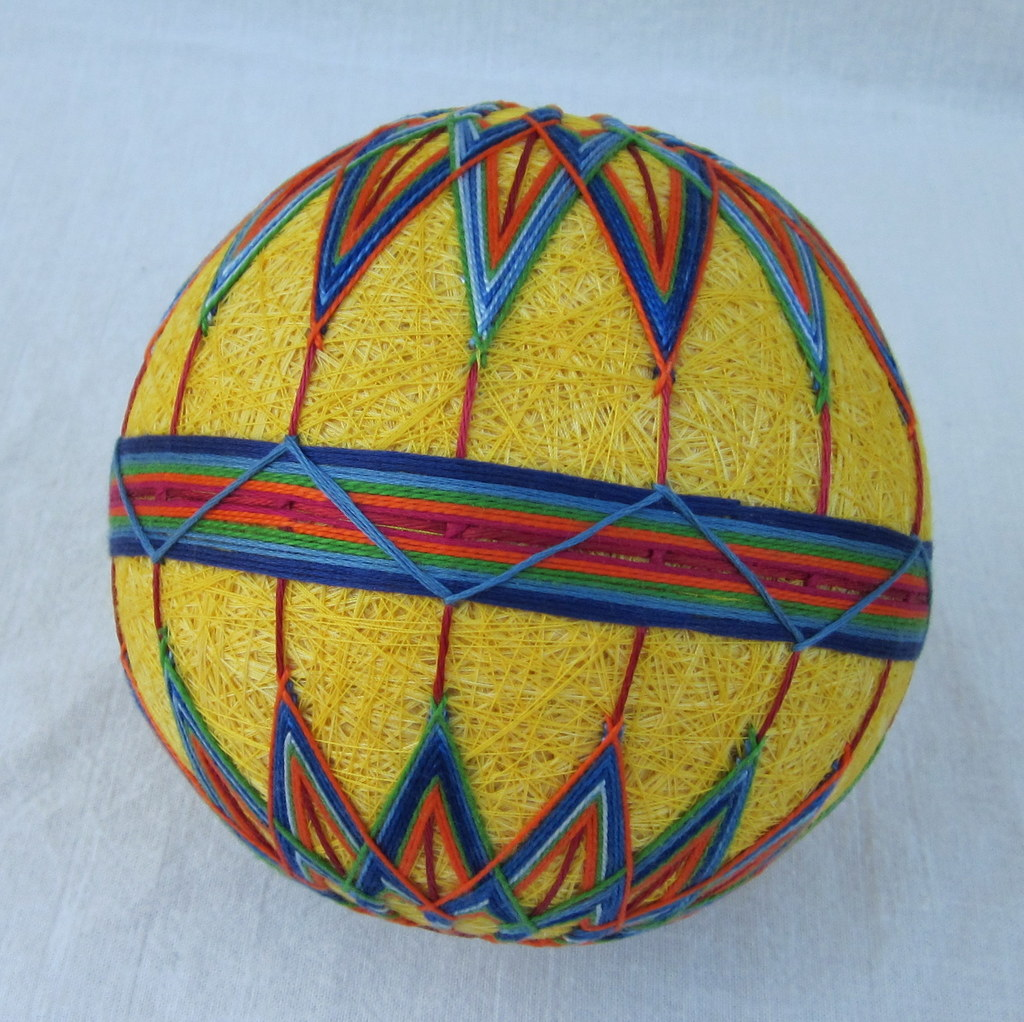Ball: (110, 95, 926, 948)
